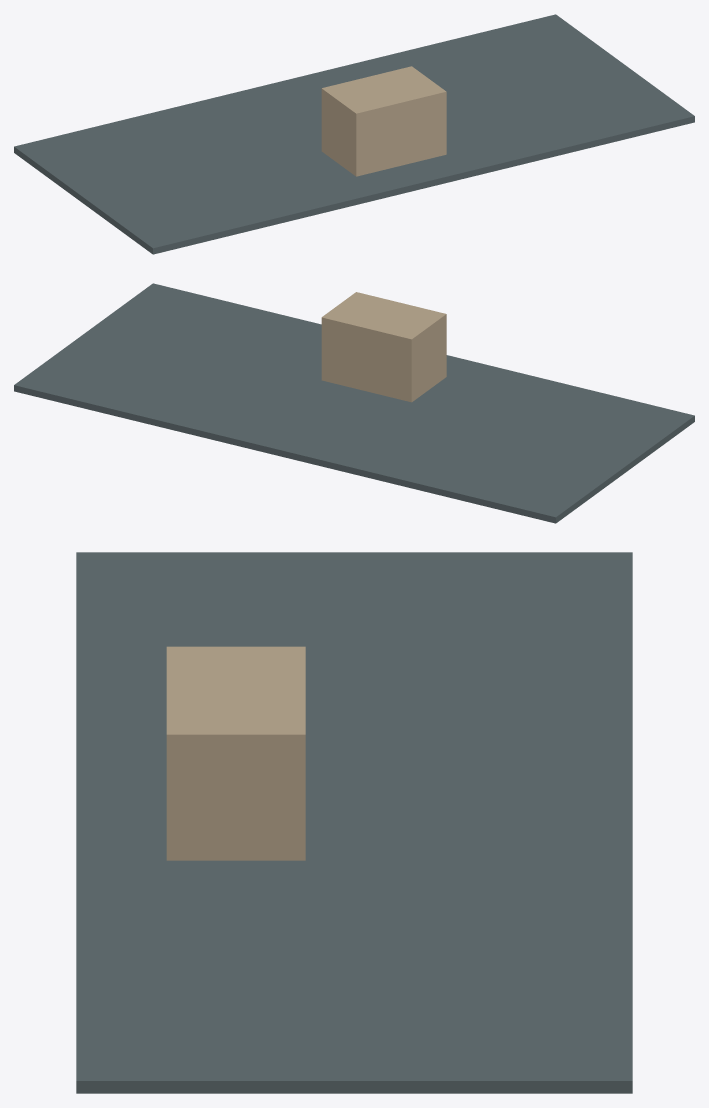
File: traffic-fixture-0.glb
The picture shows the model from 3 angles, top to bottom: view 1: azimuth 30°, elevation 25°; view 2: azimuth 150°, elevation 25°; view 3: azimuth 270°, elevation 25°; orthographic projection. The views are drawn at different scales.
Size of the model in its own units: 180 by 22 by 80.
